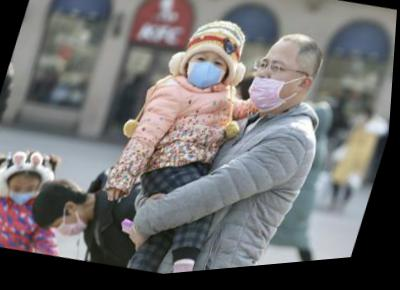OK: (185, 47, 236, 99), (51, 213, 96, 245), (9, 179, 44, 213)
WRONG: (247, 54, 300, 119)
